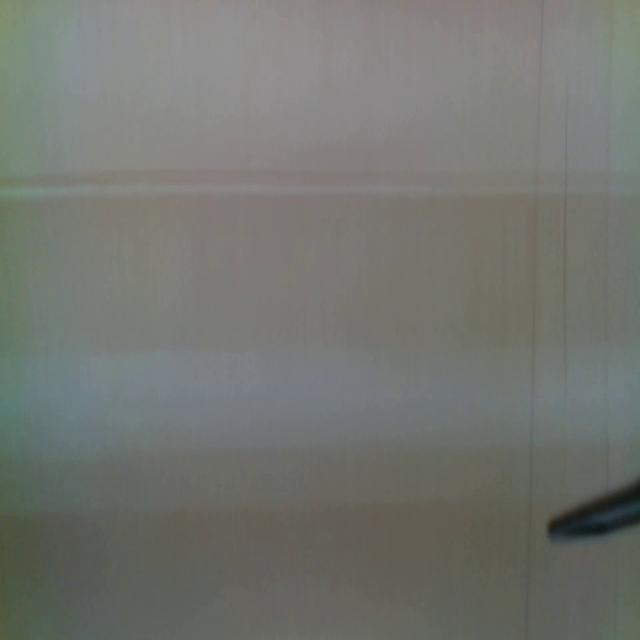color bleeding: (1, 166, 640, 374), (9, 453, 544, 636)
crease: (523, 0, 545, 640), (602, 2, 617, 490), (560, 81, 570, 407)
